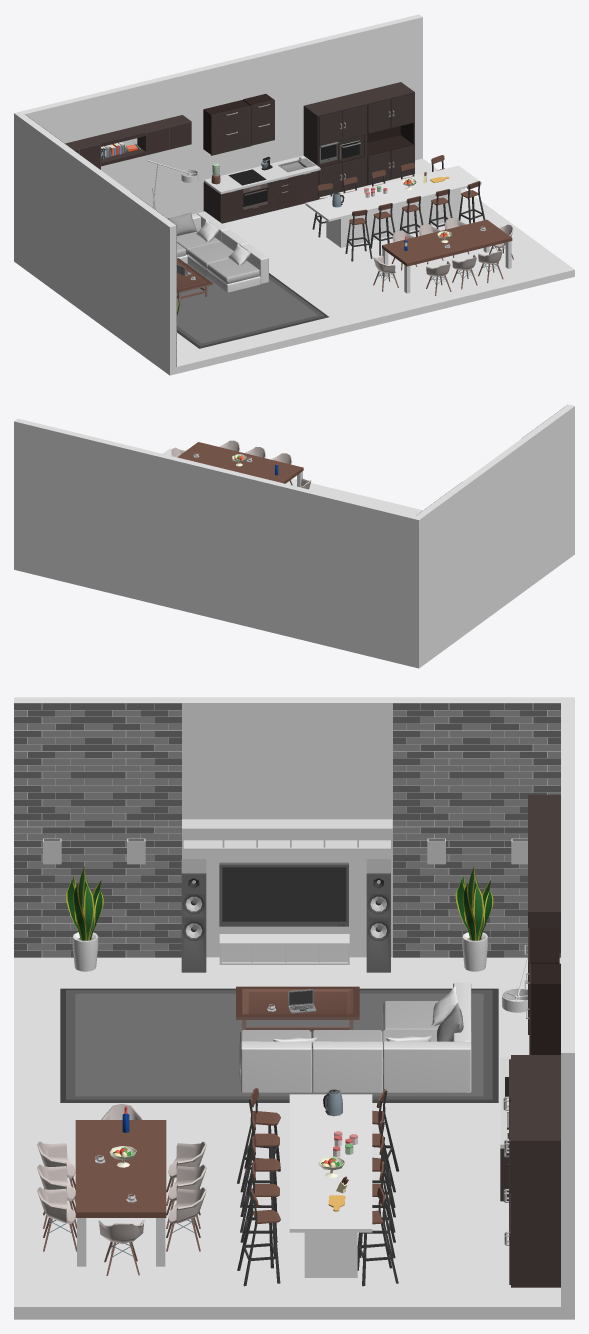
File: room_17.glb
The picture shows the model from 3 angles, top to bottom: view 1: azimuth 30°, elevation 25°; view 2: azimuth 150°, elevation 25°; view 3: azimuth 270°, elevation 25°; orthographic projection. The views are drawn at different scales.
Visible parts, largest first — view 1: Walls_006.099, Walls_006.101, Walls_006.100, carpet_004.007, kitchen_item_026.001, kitchen_item_055.001, kitchen_item_014.001, kitchen_item_010.001, sofa_027.003, kitchen_item_027.001, kitchen_table_019.002, tv_wall_022.001 (+6 smaller); view 2: Walls_006.099, Walls_006.101, kitchen_table_019.002, Walls_006.100; view 3: Walls_006.100, Walls_006.101, carpet_004.007, tv_wall_019.002, wall_021.009, wall_021.008, wall_021.010, sofa_027.003, wall_021.007, kitchen_item_026.001, kitchen_item_010.001, kitchen_table_019.002 (+23 smaller).
Boxes of the visible parts, x1,y1,x2,y2 form: Walls_006.099: (21,14,422,218); Walls_006.101: (14,111,176,375); Walls_006.100: (176,158,574,373); carpet_004.007: (177,263,328,348); kitchen_item_026.001: (305,165,481,247); kitchen_item_055.001: (203,155,320,223); kitchen_item_014.001: (303,94,366,196); kitchen_item_010.001: (352,82,414,185); sofa_027.003: (177,211,268,292); kitchen_item_027.001: (203,94,274,155); kitchen_table_019.002: (382,219,512,293); tv_wall_022.001: (65,115,191,169); Walls_006.099: (14,418,415,666); Walls_006.101: (412,404,574,668); kitchen_table_019.002: (177,442,303,486); Walls_006.100: (163,448,422,515); Walls_006.100: (14,957,560,1319); Walls_006.101: (14,697,574,957); carpet_004.007: (60,988,498,1102); tv_wall_019.002: (181,819,392,972); wall_021.009: (98,703,181,957); wall_021.008: (393,703,476,957); wall_021.010: (14,703,97,957); sofa_027.003: (239,982,471,1092); wall_021.007: (476,703,560,957); kitchen_item_026.001: (289,1094,372,1277); kitchen_item_010.001: (504,1097,560,1287); kitchen_table_019.002: (75,1120,166,1266).
Bounding box in the file's own units: 12 × 4.2 × 8.
1 material, 1 textured.
